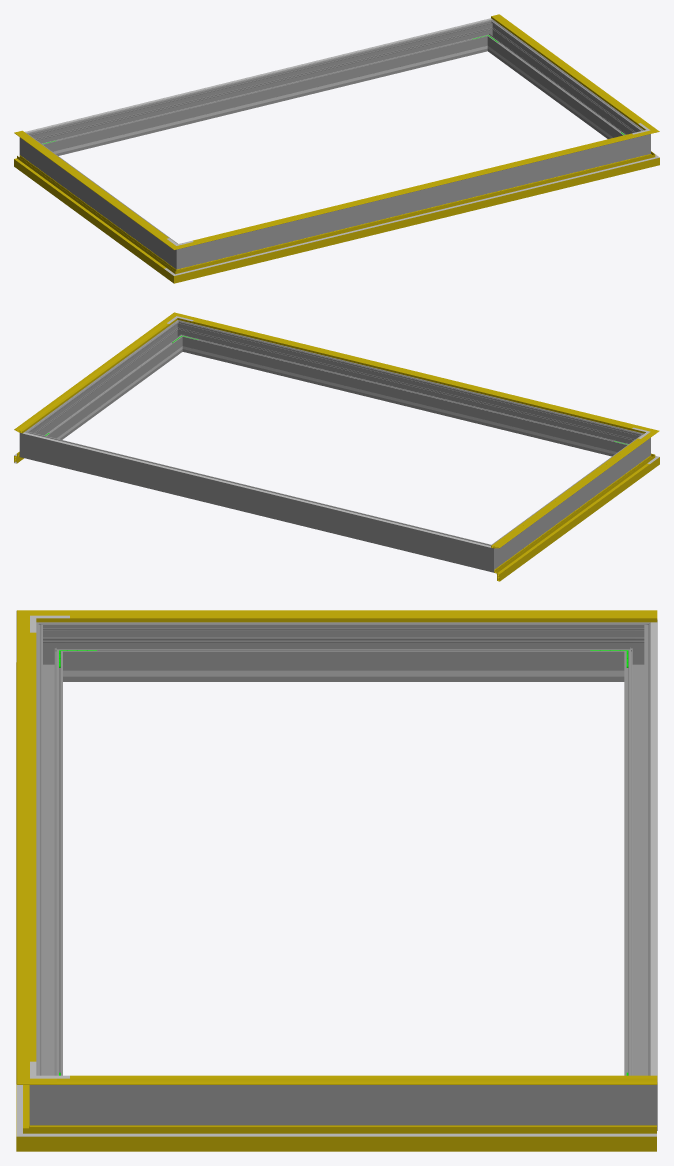
3 views of the same model, one above another, from view 1: azimuth 30°, elevation 25°; view 2: azimuth 150°, elevation 25°; view 3: azimuth 270°, elevation 25° (orthographic). The views are drawn at different scales.
Visible parts, largest first — view 1: 3DGeom-278, 3DGeom-300, 3DGeom-90, 3DGeom-299, 3DGeom-270, 3DGeom-85, 3DGeom-141, 3DGeom-246, 3DGeom-145, 3DGeom-222, 3DGeom-100, 3DGeom-147 (+7 smaller); view 2: 3DGeom-300, 3DGeom-278, 3DGeom-299, 3DGeom-141, 3DGeom-270, 3DGeom-85, 3DGeom-241, 3DGeom-145, 3DGeom-222, 3DGeom-147, 3DGeom-158, 3DGeom-280 (+6 smaller); view 3: 3DGeom-270, 3DGeom-299, 3DGeom-97, 3DGeom-278, 3DGeom-300, 3DGeom-147, 3DGeom-141, 3DGeom-145, 3DGeom-234, 3DGeom-222, 3DGeom-158, 3DGeom-98 (+7 smaller).
Boxes of the visible parts, left/top/right/bottom form: 3DGeom-278: left=38, top=23, right=484, bottom=155; 3DGeom-300: left=194, top=138, right=633, bottom=265; 3DGeom-90: left=188, top=157, right=642, bottom=279; 3DGeom-299: left=489, top=25, right=637, bottom=138; 3DGeom-270: left=29, top=139, right=171, bottom=261; 3DGeom-85: left=14, top=155, right=169, bottom=275; 3DGeom-141: left=188, top=133, right=641, bottom=245; 3DGeom-246: left=59, top=50, right=470, bottom=152; 3DGeom-145: left=491, top=14, right=648, bottom=127; 3DGeom-222: left=25, top=18, right=491, bottom=132; 3DGeom-100: left=190, top=160, right=642, bottom=271; 3DGeom-147: left=14, top=131, right=169, bottom=242; 3DGeom-300: left=185, top=323, right=631, bottom=456; 3DGeom-278: left=37, top=434, right=479, bottom=568; 3DGeom-299: left=32, top=326, right=180, bottom=439; 3DGeom-141: left=186, top=316, right=641, bottom=431; 3DGeom-270: left=498, top=439, right=640, bottom=562; 3DGeom-85: left=494, top=460, right=649, bottom=581; 3DGeom-241: left=199, top=350, right=611, bottom=453; 3DGeom-145: left=14, top=319, right=172, bottom=433; 3DGeom-222: left=22, top=432, right=490, bottom=547; 3DGeom-147: left=491, top=436, right=649, bottom=548; 3DGeom-158: left=192, top=320, right=632, bottom=428; 3DGeom-280: left=476, top=540, right=503, bottom=572; 3DGeom-270: left=70, top=622, right=617, bottom=681; 3DGeom-299: left=70, top=1085, right=617, bottom=1125; 3DGeom-97: left=56, top=1125, right=656, bottom=1151; 3DGeom-278: left=624, top=636, right=657, bottom=1075; 3DGeom-300: left=36, top=636, right=62, bottom=1075; 3DGeom-147: left=57, top=610, right=657, bottom=622; 3DGeom-141: left=16, top=627, right=29, bottom=1066; 3DGeom-145: left=57, top=1078, right=657, bottom=1084; 3DGeom-234: left=101, top=670, right=585, bottom=676; 3DGeom-222: left=651, top=622, right=657, bottom=1075; 3DGeom-158: left=30, top=632, right=36, bottom=1061; 3DGeom-98: left=56, top=1133, right=656, bottom=1136.
Bounding box in the file's own units: 4.27 × 0.2829 × 2.44.
